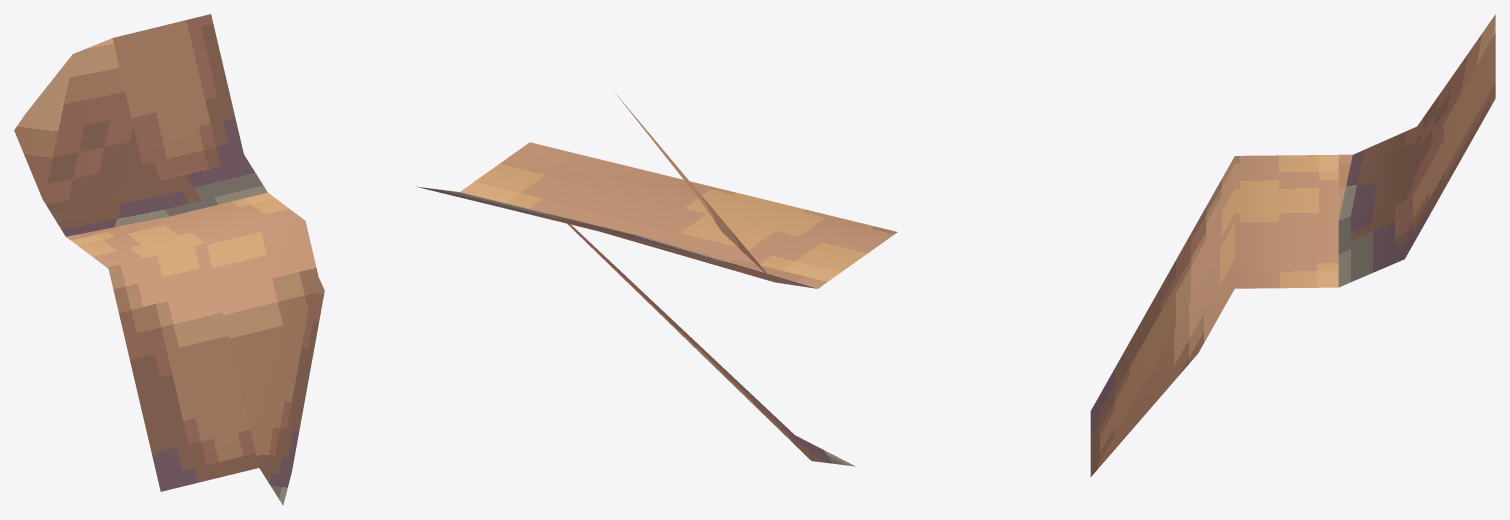
3 renders of one model, left to right at view 1: azimuth 30°, elevation 25°; view 2: azimuth 150°, elevation 25°; view 3: azimuth 270°, elevation 25°, orthographic. The views are drawn at different scales.
Bounding box in the file's own units: 1 × 1.66 × 1.5.
3 materials, 3 textured.
